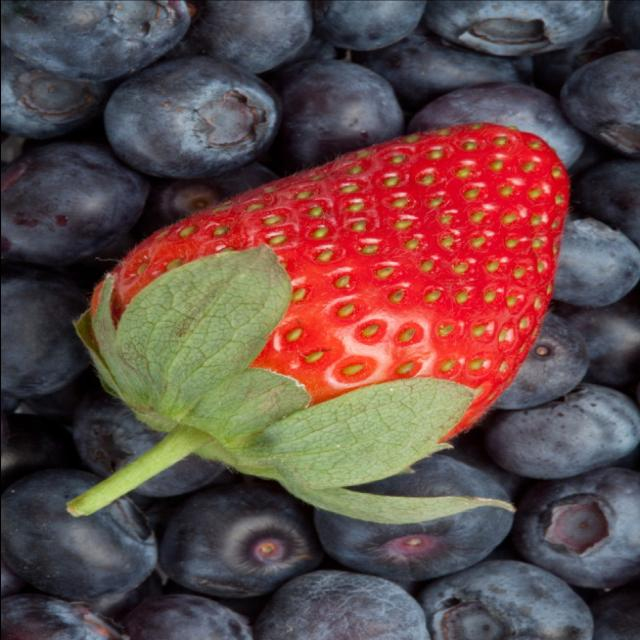strawberry: (26, 87, 596, 548)
